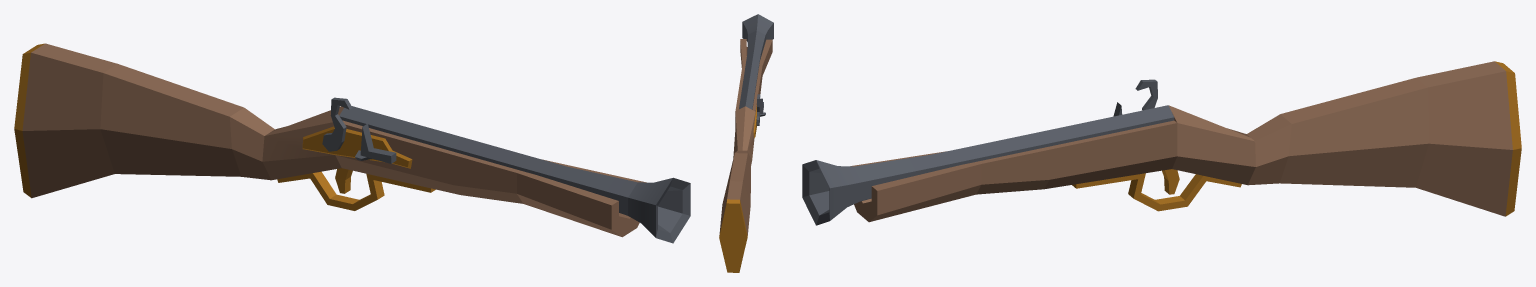
The model's file is Fucile corto.fbx.
3 renders of one model, left to right at view 1: azimuth 30°, elevation 25°; view 2: azimuth 150°, elevation 25°; view 3: azimuth 270°, elevation 25°, orthographic. The views are drawn at different scales.
Visible parts, largest first — view 1: Blunderbuss; view 2: Blunderbuss; view 3: Blunderbuss.
Boxes of the visible parts, bbox=[...] form: Blunderbuss: bbox=[14, 43, 690, 243]; Blunderbuss: bbox=[719, 14, 773, 272]; Blunderbuss: bbox=[802, 61, 1521, 225].
Bounding box in the file's own units: 49.61 × 27 × 90.09.
